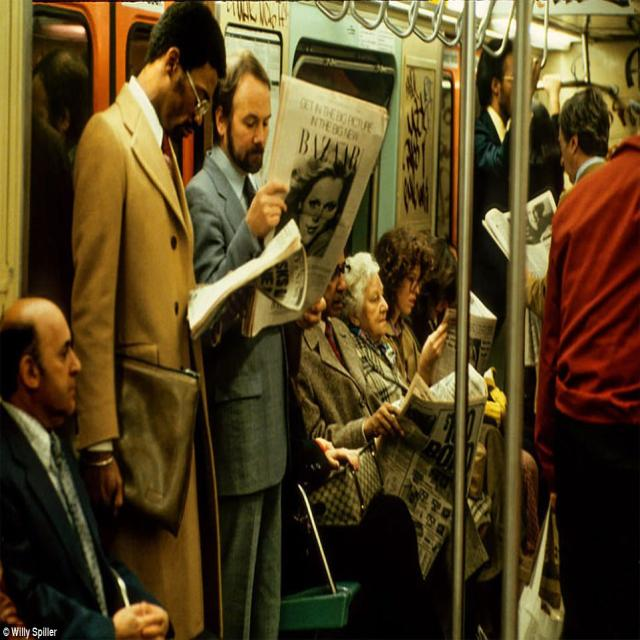body: (60, 0, 249, 639), (265, 146, 434, 640), (182, 43, 305, 640), (0, 294, 181, 637), (293, 241, 447, 639), (522, 86, 612, 454), (470, 36, 545, 330), (522, 84, 612, 324), (344, 252, 448, 405), (468, 36, 516, 361), (30, 31, 89, 280), (374, 225, 451, 388), (402, 235, 460, 347), (524, 59, 566, 201), (432, 224, 497, 299), (0, 572, 28, 640)
